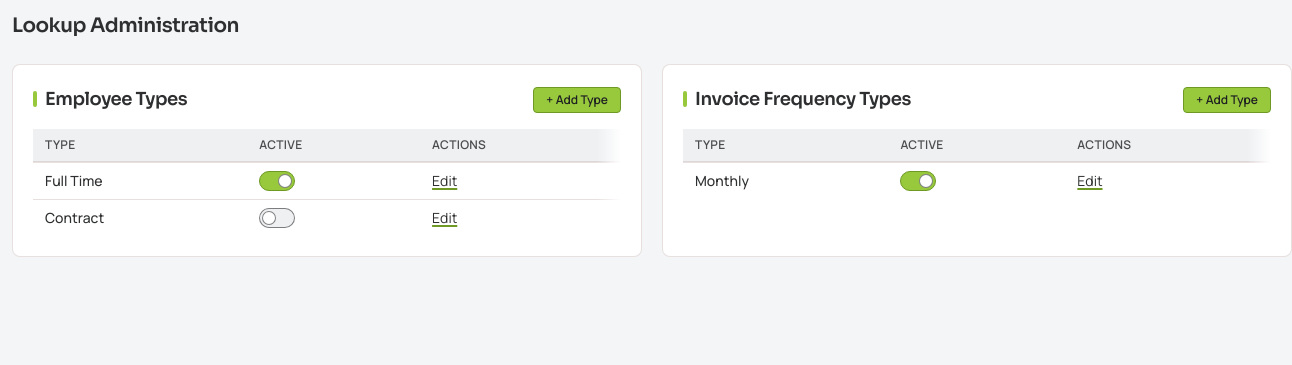
Test: LookupAdminPage › adds a value and shows it in the list
This screenshot has width=1292, height=365.
Check: the cell "Full Time" is shown, box [33, 163, 247, 200]
Click the button "+ Add Type" in the row of "Employee Types" at (577, 100), box [533, 86, 621, 112]
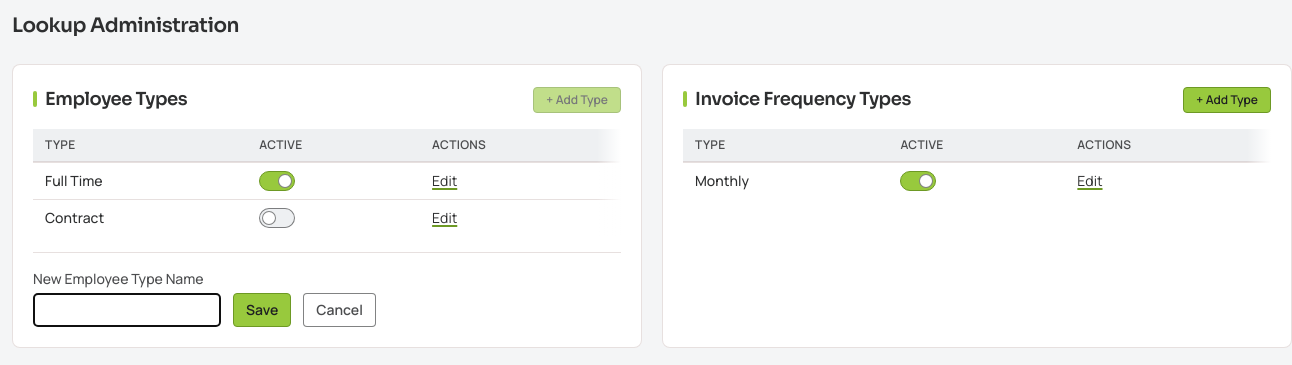
Type "Consultant" into the field labelled "New Employee Type Name" at (127, 310), box [33, 293, 221, 327]
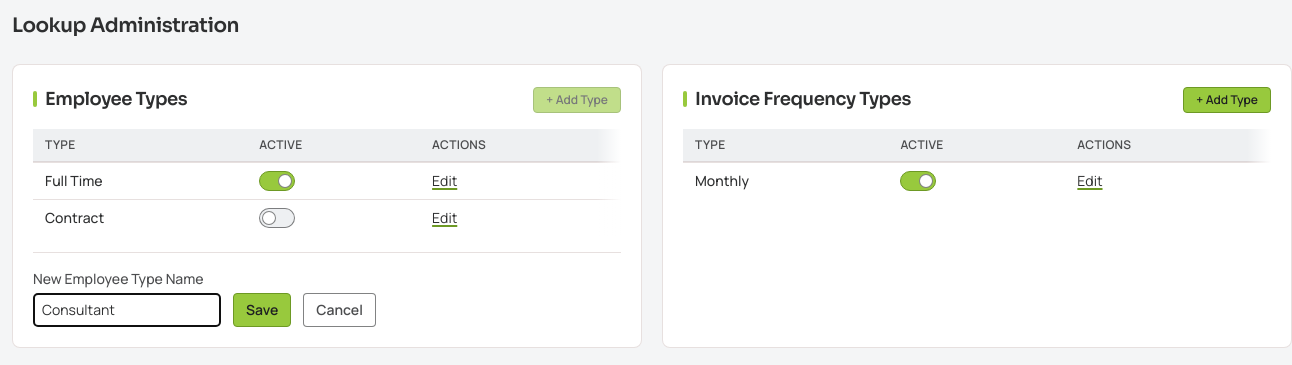
Click the button named "save new employee type" at (262, 310), box [233, 293, 291, 327]
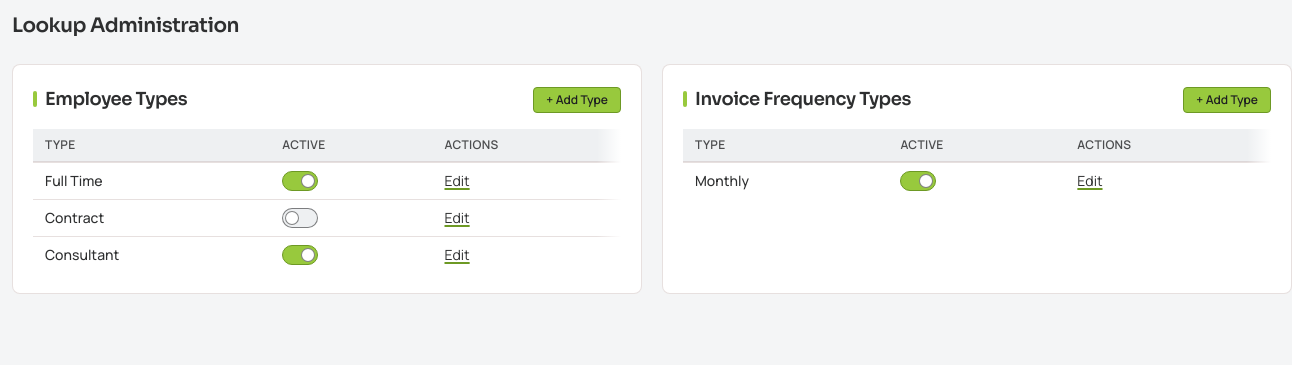
Check: the cell "Consultant" is shown, box [33, 236, 270, 273]
